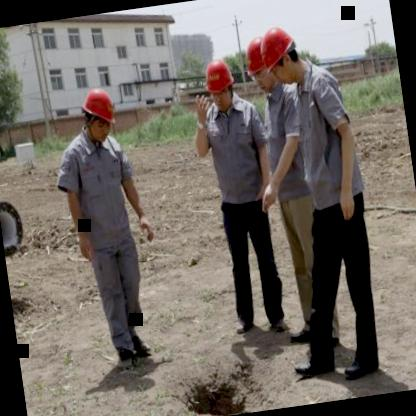helmet: (252, 21, 305, 91), (77, 85, 121, 145), (201, 54, 238, 111), (242, 30, 275, 93)
